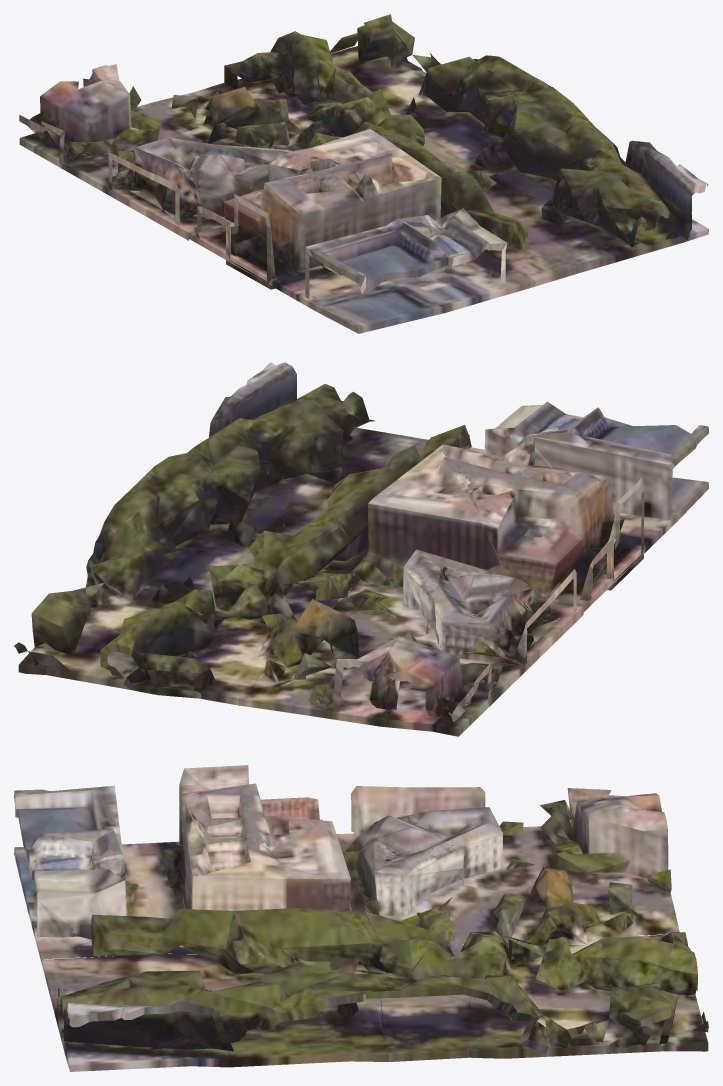
The picture shows the model from 3 angles, top to bottom: view 1: azimuth 30°, elevation 25°; view 2: azimuth 150°, elevation 25°; view 3: azimuth 270°, elevation 25°; orthographic projection. The views are drawn at different scales.
Visible parts, largest first — view 1: Mesh_0; view 2: Mesh_0; view 3: Mesh_0.
Boxes of the visible parts, x1,y1,x2,y2 form: Mesh_0: (19, 14, 708, 333); Mesh_0: (14, 362, 708, 736); Mesh_0: (14, 765, 708, 1071).
Size of the model in its own units: 270 by 61.06 by 330.
2 materials, 2 textured.
